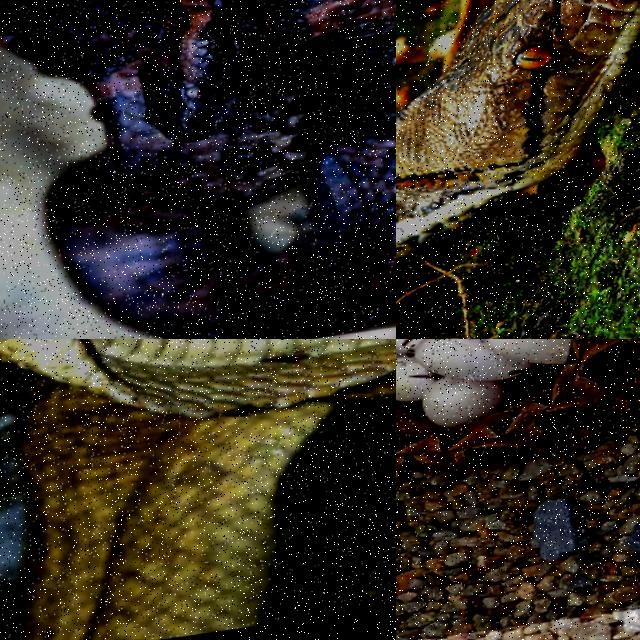Calloselasma rhodostoma: (396, 339, 639, 472)
Malayopython reticulatus: (396, 0, 639, 263)
Naja kaouthia: (0, 339, 395, 639)
Ovophis monticola: (0, 0, 395, 338)
snake: (0, 0, 395, 338), (0, 339, 395, 639), (396, 0, 639, 263), (396, 339, 639, 472)
